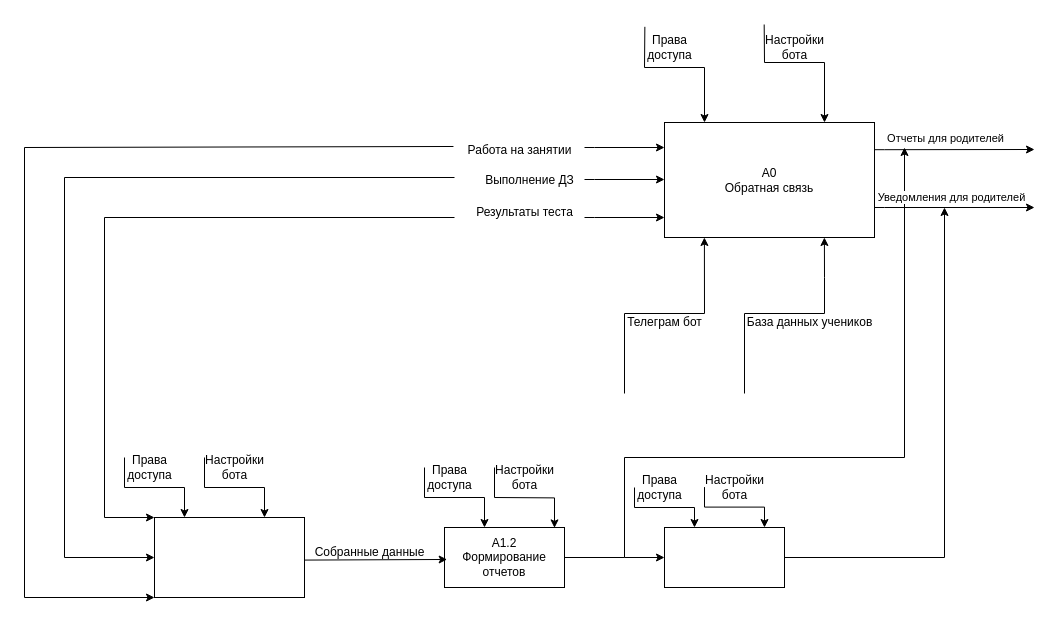
Some shapes in this 1060 by 623 pixel diagram are drawn without their labels. The centre of each missing label's shape, as x and y in pixels:
"А1.1 Сбор данных об успеваемости" goes at point 229,557.
"А1.3 Отправка уведомлений" goes at point 724,557.
